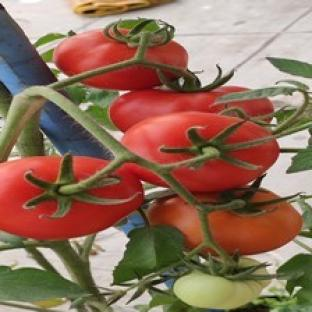Tomato: (122, 112, 278, 192), (0, 156, 143, 239), (109, 87, 274, 132), (207, 201, 302, 254), (53, 30, 136, 76), (173, 271, 268, 309)
